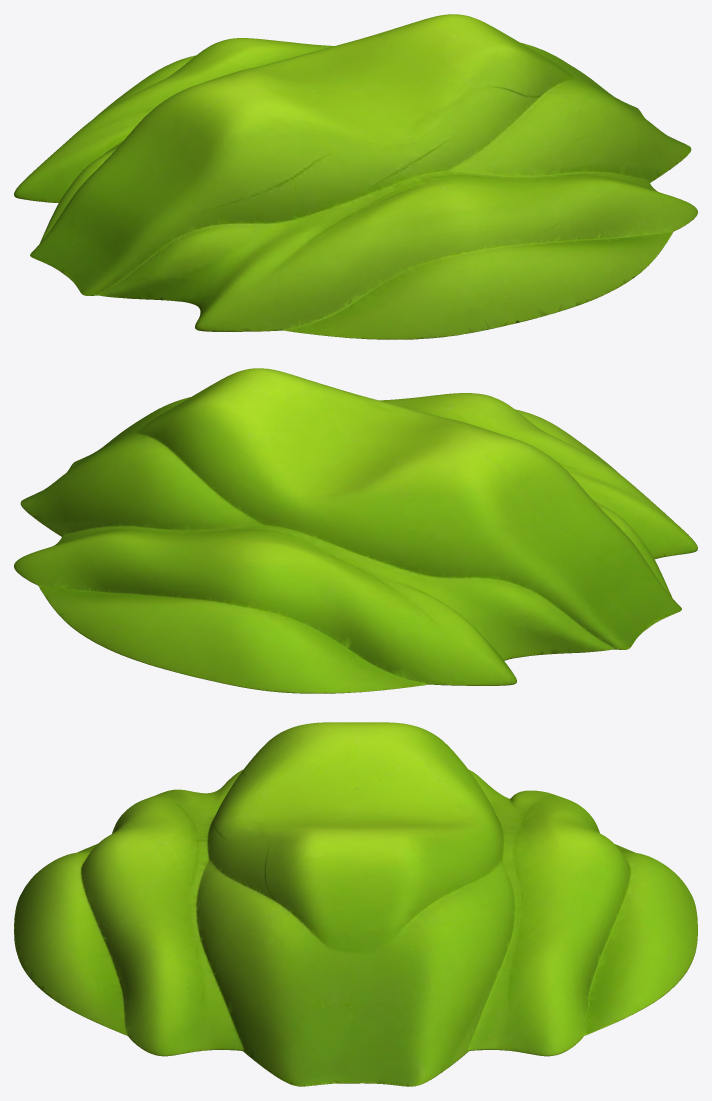
File: Meshy_AI_A_flat_theater_prop_c_0824213017_texture-optimized.glb
The picture shows the model from 3 angles, top to bottom: view 1: azimuth 30°, elevation 25°; view 2: azimuth 150°, elevation 25°; view 3: azimuth 270°, elevation 25°; orthographic projection. The views are drawn at different scales.
Visible parts, largest first — view 1: mesh_node; view 2: mesh_node; view 3: mesh_node.
Part boxes in pixels (<box>): mesh_node: <box>14,14,697,339</box>; mesh_node: <box>14,368,697,693</box>; mesh_node: <box>14,722,697,1086</box>.
Size of the model in its own units: 1.9 by 0.4273 by 1.77.
1 material, 1 textured.
